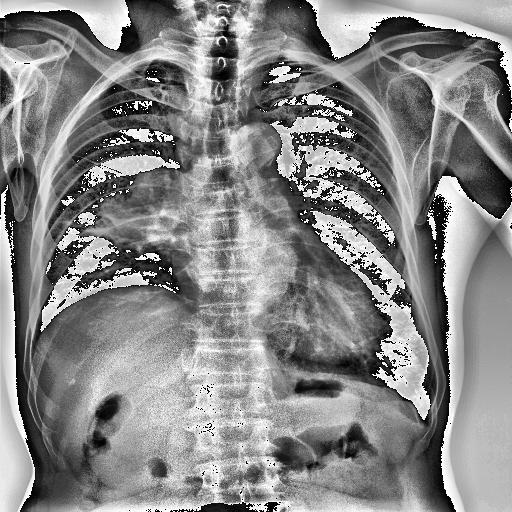0- Aortic enlargement: (228, 122, 286, 182), (236, 121, 280, 174)
1- Atelectasis: (109, 170, 180, 231)
13- Pulmonary fibrosis: (69, 216, 150, 254), (77, 226, 169, 254)
3- Cardiomegaly: (168, 230, 386, 365), (168, 234, 382, 360)
4- Consolidation: (92, 165, 187, 264)
7- Lung Opacity: (109, 170, 180, 231)
8- Nodule-Mass: (92, 165, 187, 264), (105, 168, 188, 244), (109, 170, 180, 231)
9- Other lesion: (33, 288, 212, 382), (24, 279, 188, 355)
